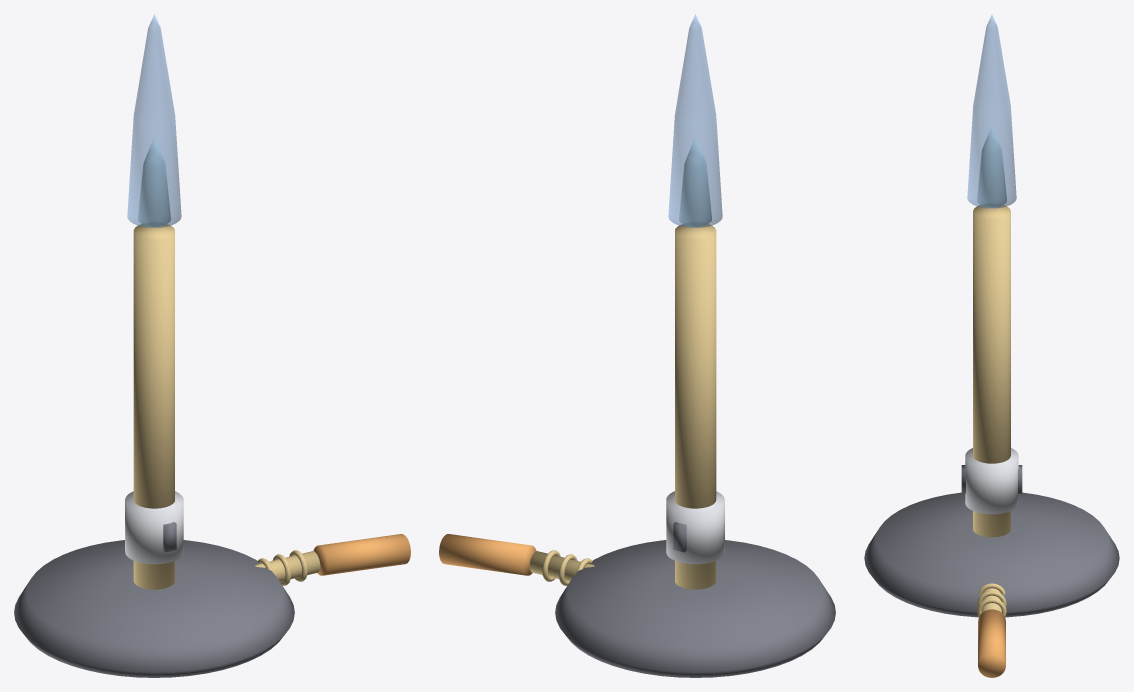
The model's file is mechero.glb.
The picture shows the model from 3 angles, left to right: view 1: azimuth 30°, elevation 25°; view 2: azimuth 150°, elevation 25°; view 3: azimuth 270°, elevation 25°; orthographic projection. The views are drawn at different scales.
Visible parts, largest first — view 1: mechero_0, mechero_1, mechero_10, mechero_2, mechero_9, mechero_11, mechero_5; view 2: mechero_0, mechero_1, mechero_10, mechero_2, mechero_9, mechero_11, mechero_5; view 3: mechero_0, mechero_1, mechero_10, mechero_2, mechero_9, mechero_11.
Boxes of the visible parts, <box> form: mechero_0: <box>14,540,294,677</box>; mechero_1: <box>133,224,174,589</box>; mechero_10: <box>127,14,181,227</box>; mechero_2: <box>125,491,183,564</box>; mechero_9: <box>313,534,410,575</box>; mechero_11: <box>138,136,170,227</box>; mechero_5: <box>255,551,320,581</box>; mechero_0: <box>555,540,835,677</box>; mechero_1: <box>675,224,716,589</box>; mechero_10: <box>668,14,722,227</box>; mechero_2: <box>666,491,724,564</box>; mechero_9: <box>439,534,536,575</box>; mechero_11: <box>679,136,711,227</box>; mechero_5: <box>529,551,594,581</box>; mechero_0: <box>864,492,1119,617</box>; mechero_1: <box>973,205,1010,537</box>; mechero_10: <box>967,15,1016,208</box>; mechero_2: <box>965,448,1018,514</box>; mechero_9: <box>978,609,1005,677</box>; mechero_11: <box>977,125,1006,208</box>.
Size of the model in its own units: 0.1345 by 0.2108 by 0.088.
